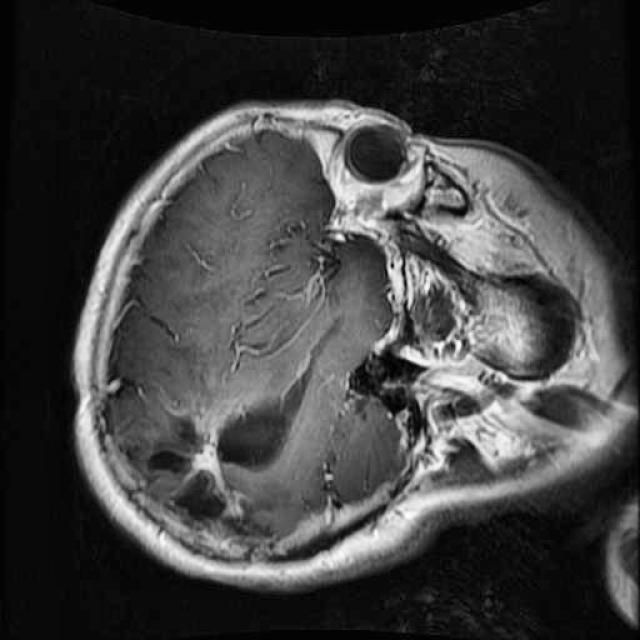Tumor: (129, 368, 326, 563)
